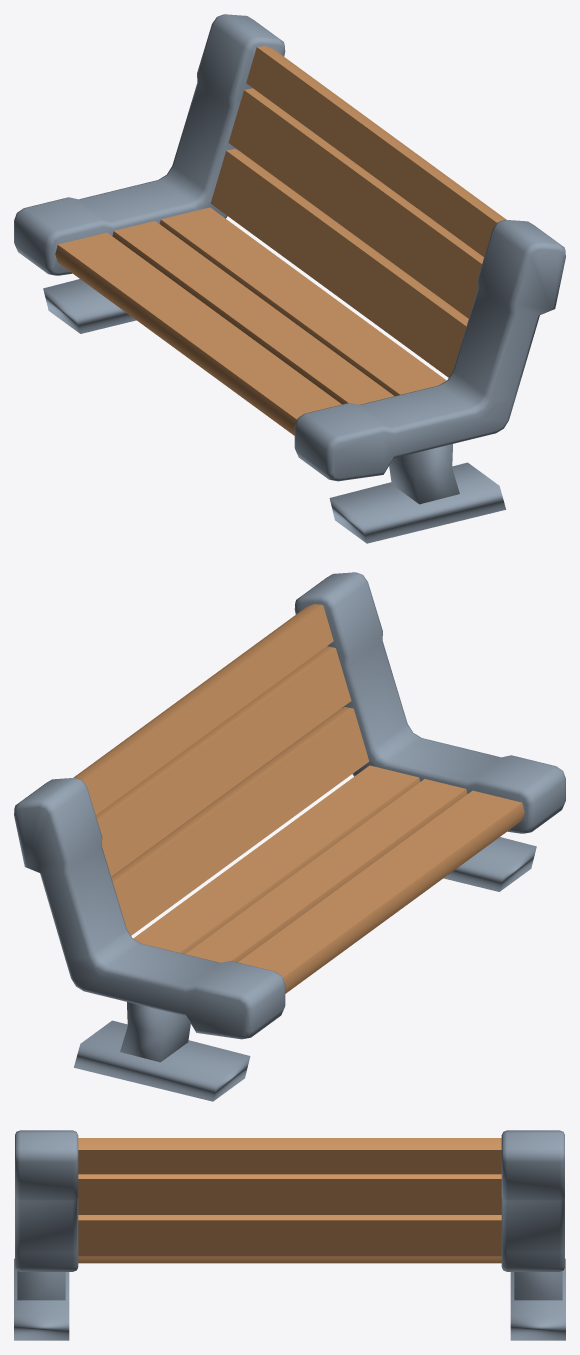
The model's file is Bench01.fbx.
The picture shows the model from 3 angles, top to bottom: view 1: azimuth 30°, elevation 25°; view 2: azimuth 150°, elevation 25°; view 3: azimuth 270°, elevation 25°; orthographic projection. The views are drawn at different scales.
Parts seen in each view (by area): view 1: Plane.002, Cube.004, Cube.005, Cube, Cube.006, Cube.002, Cube.001, Cube.007, Cube.008; view 2: Plane.002, Cube.004, Cube.005, Cube, Cube.006, Cube.002, Cube.001, Cube.007, Cube.008; view 3: Plane.002, Cube.004, Cube.005, Cube.006, Cube.007, Cube.002, Cube.008.
Boxes of the visible parts, bbox=[...] form: Plane.002: bbox=[14, 14, 565, 481]; Cube.004: bbox=[210, 149, 468, 377]; Cube.005: bbox=[228, 88, 483, 318]; Cube: bbox=[55, 232, 341, 435]; Cube.006: bbox=[246, 46, 506, 256]; Cube.002: bbox=[159, 207, 446, 395]; Cube.001: bbox=[112, 221, 394, 404]; Cube.007: bbox=[43, 279, 505, 543]; Cube.008: bbox=[389, 444, 459, 504]; Plane.002: bbox=[14, 572, 565, 1039]; Cube.004: bbox=[111, 707, 369, 935]; Cube.005: bbox=[96, 646, 351, 876]; Cube: bbox=[238, 790, 524, 993]; Cube.006: bbox=[73, 604, 333, 814]; Cube.002: bbox=[133, 765, 420, 953]; Cube.001: bbox=[185, 779, 467, 962]; Cube.007: bbox=[74, 837, 536, 1101]; Cube.008: bbox=[120, 1002, 190, 1062]; Plane.002: bbox=[15, 1130, 564, 1271]; Cube.004: bbox=[78, 1215, 501, 1256]; Cube.005: bbox=[78, 1174, 501, 1214]; Cube.006: bbox=[78, 1138, 501, 1174]; Cube.007: bbox=[14, 1258, 565, 1340]; Cube.002: bbox=[78, 1256, 501, 1263]; Cube.008: bbox=[17, 1271, 562, 1300].
Bounding box in the file's own units: 119 × 122 × 274.
